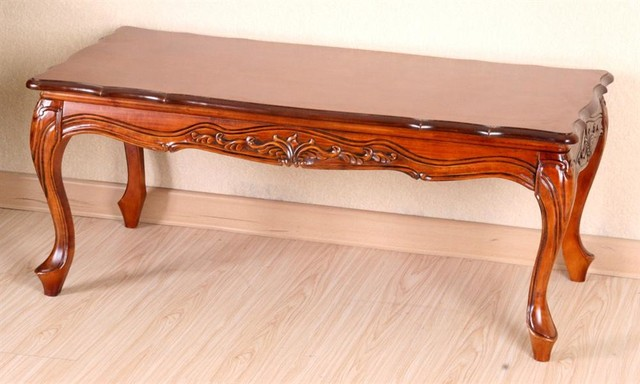Carving Table: (37, 26, 624, 377)
